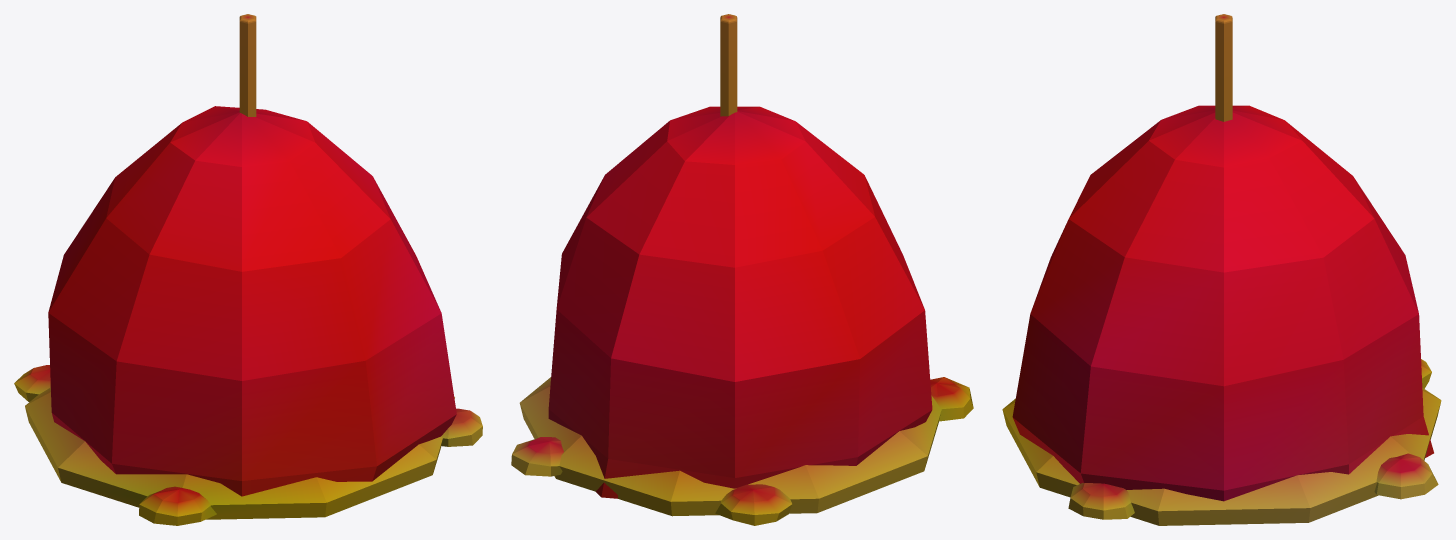
Rendered from Farm_Haystack.fbx.
3 renders of one model, left to right at view 1: azimuth 30°, elevation 25°; view 2: azimuth 150°, elevation 25°; view 3: azimuth 270°, elevation 25°, orthographic. The views are drawn at different scales.
Visible parts, largest first — view 1: Farm_Haystack; view 2: Farm_Haystack; view 3: Farm_Haystack.
Part boxes in pixels (x1,y1,x2,y2): Farm_Haystack: [14, 14, 482, 525]; Farm_Haystack: [511, 14, 973, 525]; Farm_Haystack: [1002, 14, 1441, 525].
Size of the model in its own units: 2.4 by 2.58 by 2.42.
